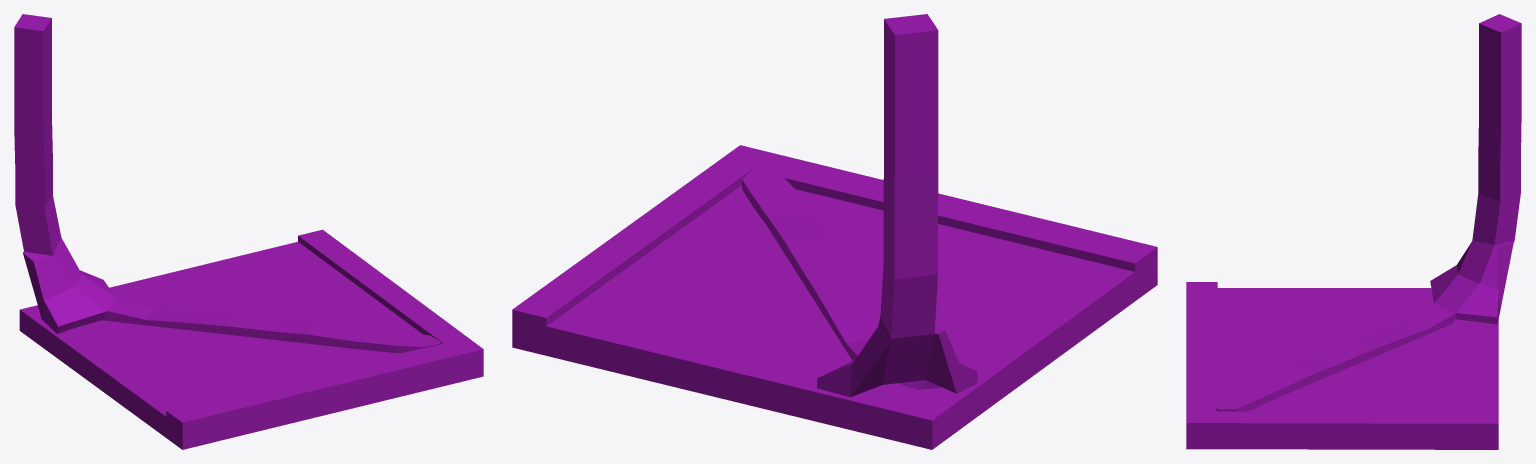
File: modulo_esquina.fbx
The picture shows the model from 3 angles, left to right: view 1: azimuth 30°, elevation 25°; view 2: azimuth 150°, elevation 25°; view 3: azimuth 270°, elevation 25°; orthographic projection. The views are drawn at different scales.
Parts seen in each view (by area): view 1: Box1360; view 2: Box1360; view 3: Box1360.
Boxes of the visible parts, x1,y1,x2,y2 form: Box1360: [14, 14, 483, 449]; Box1360: [512, 14, 1157, 449]; Box1360: [1186, 14, 1521, 449].
Bounding box in the file's own units: 43.46 × 41.44 × 42.72.
